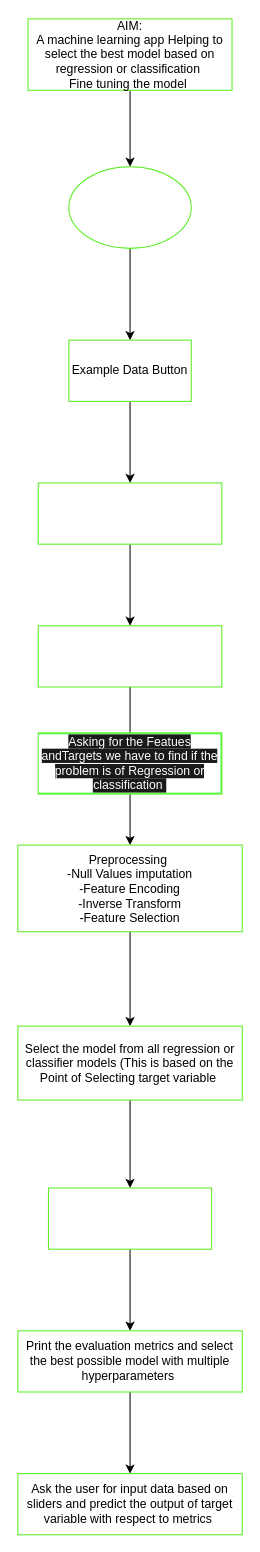
The diagram is 260 pixels wide and 1552 high, and some of its shapes have lost their labels. Here are the shapes that lost their labels. From the top down, the centre of each, then its label:
At point (129, 207): "Load the data".
At point (129, 513): "Check the column names and data types".
At point (129, 656): "Asking for the Features and Targets".
At point (129, 1218): "Add the evaluation metrics based on the problem".
